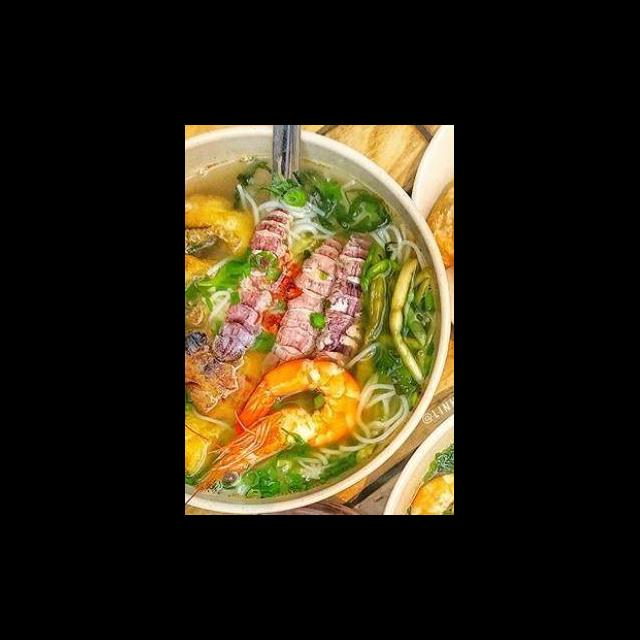bun: (232, 179, 340, 254), (346, 379, 414, 447), (288, 439, 372, 487), (364, 219, 431, 273)
bun hai san: (188, 148, 441, 509)
tom: (190, 355, 366, 495)
tom tit: (208, 203, 298, 366), (258, 233, 350, 379), (312, 230, 379, 380)
